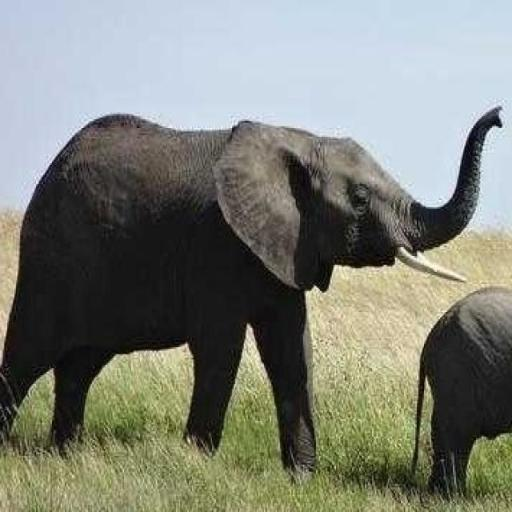Elephant: (0, 103, 503, 486), (410, 284, 510, 498)
